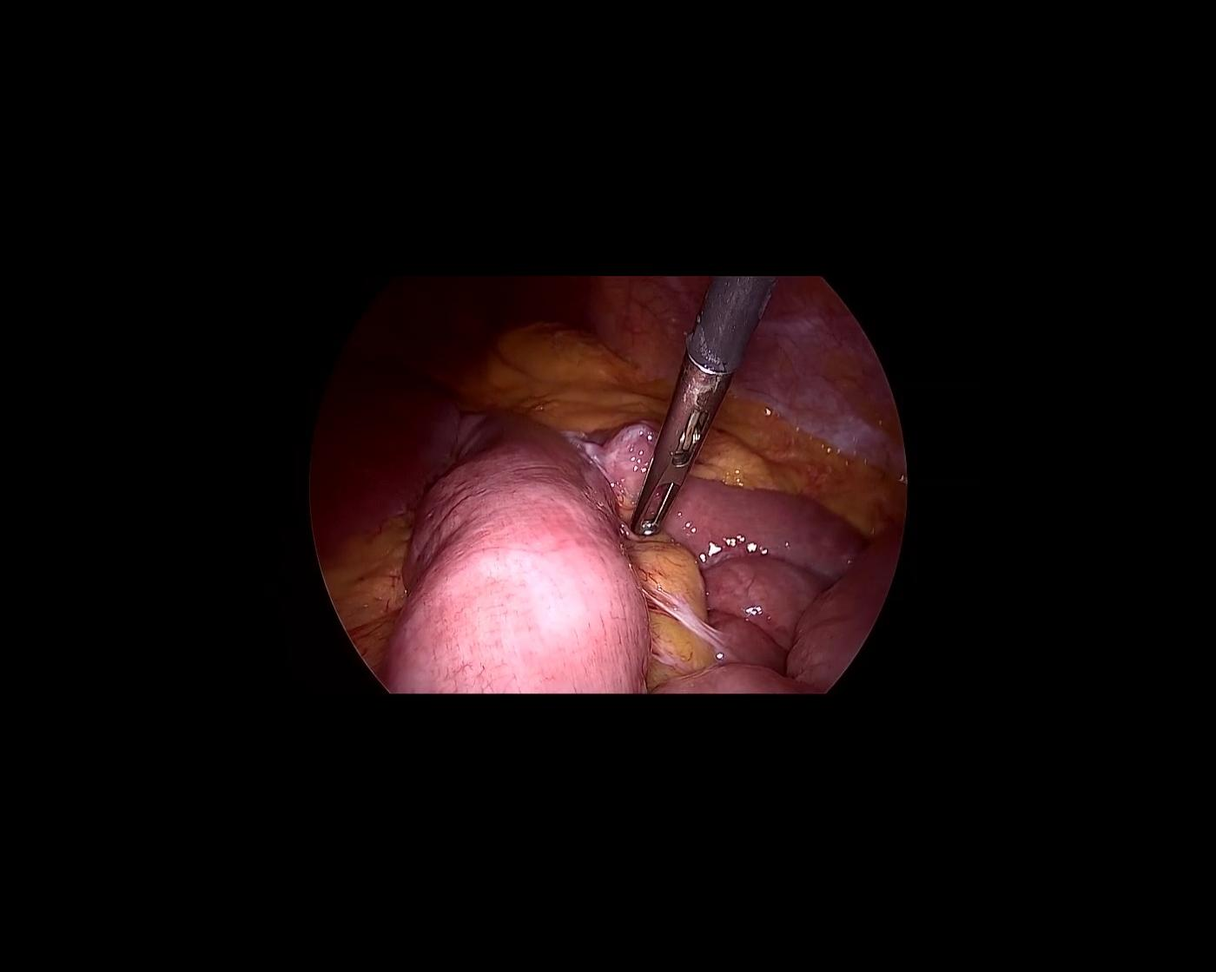Forceps: (599, 251, 781, 545)
Liver: (262, 344, 475, 585)
